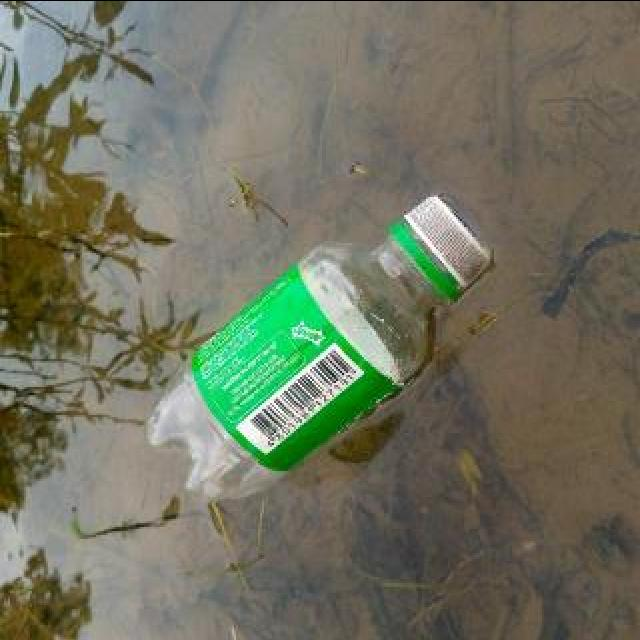Bottle: (139, 182, 503, 508)
